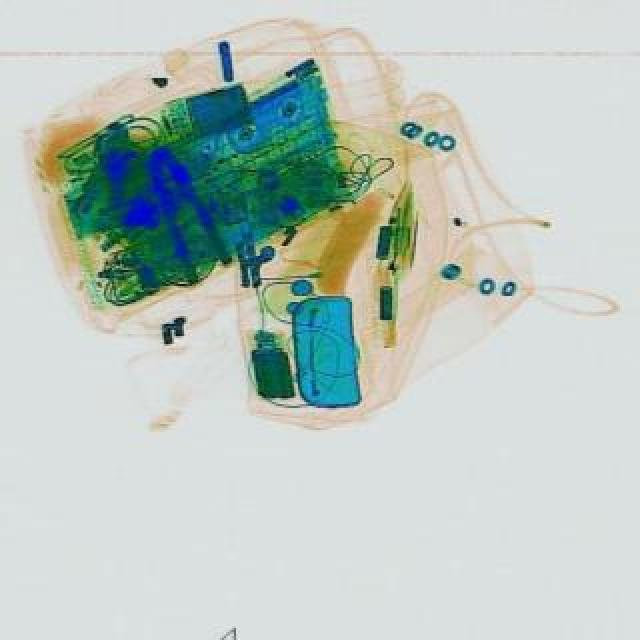wrench: (142, 138, 240, 286)
